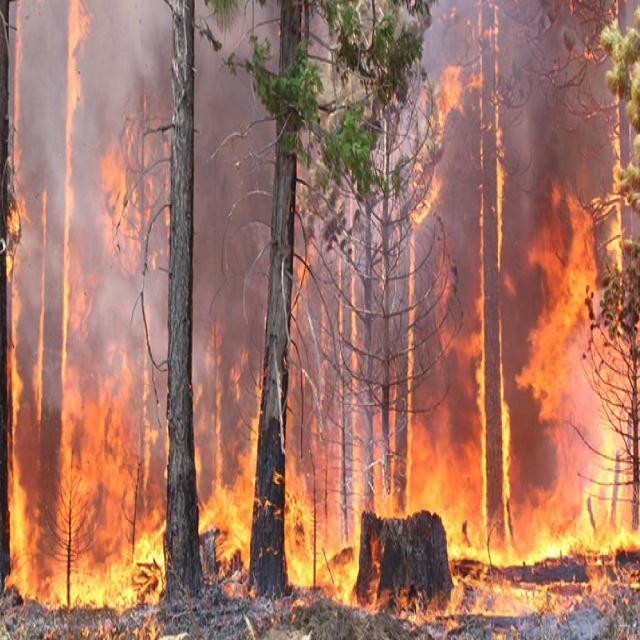Fire: (0, 0, 640, 640)
Smoke: (78, 5, 461, 358)
